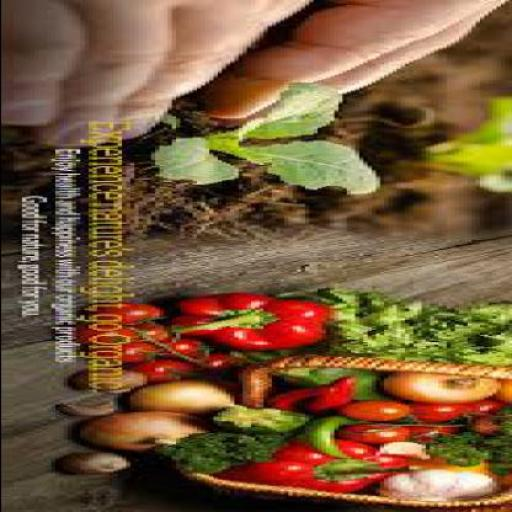biodegradable: (234, 288, 512, 362), (217, 438, 412, 492), (166, 291, 336, 350), (225, 139, 387, 195), (216, 80, 346, 139), (166, 432, 296, 474), (84, 409, 216, 450), (275, 366, 408, 401), (158, 136, 246, 184), (133, 378, 246, 412), (383, 468, 503, 500), (391, 369, 504, 401), (213, 405, 316, 432), (412, 397, 508, 421), (308, 416, 358, 458), (432, 430, 492, 464), (308, 376, 362, 413), (79, 300, 167, 322), (58, 451, 134, 475), (424, 458, 504, 480), (486, 405, 511, 475), (75, 370, 154, 391), (125, 360, 200, 380), (266, 384, 325, 409), (88, 340, 162, 359), (342, 399, 416, 418), (341, 422, 412, 441), (417, 401, 483, 420), (378, 440, 438, 460), (74, 323, 134, 342), (158, 337, 212, 356), (412, 421, 466, 439), (62, 400, 121, 415), (200, 353, 254, 369), (142, 322, 178, 341), (491, 378, 511, 406)
